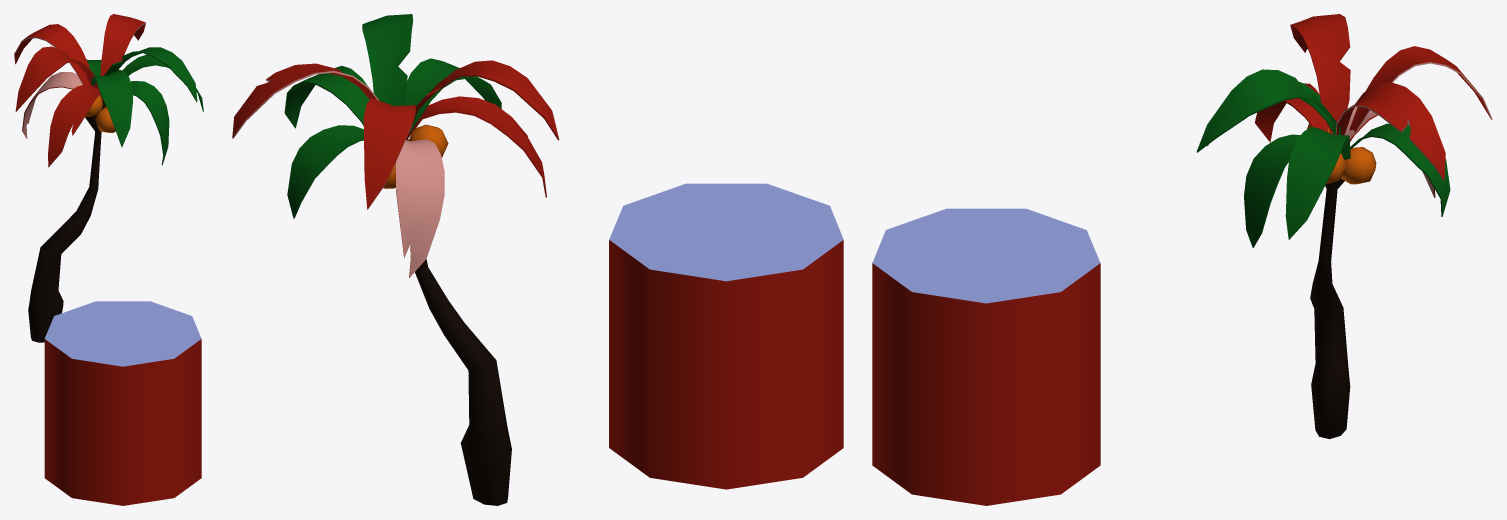
Rendered from palmeramaterialfixeed.fbx.
3 renders of one model, left to right at view 1: azimuth 30°, elevation 25°; view 2: azimuth 150°, elevation 25°; view 3: azimuth 270°, elevation 25°, orthographic. The views are drawn at different scales.
Visible parts, largest first — view 1: Cylinder001, tronco_low, hoja7_low, hoja9_low, hoja2_low, hoja10_low, hoja3_low, hoja8_low, hoja5_low, hoja4_low, hoja6_low, coco3_low; view 2: Cylinder001, tronco_low, hoja4_low, hoja3_low, hoja5_low, hoja1_low, hoja7_low, hoja2_low, hoja6_low, hoja10_low, hoja9_low; view 3: Cylinder001, tronco_low, hoja6_low, hoja2_low, hoja10_low, hoja5_low, hoja8_low, hoja3_low, hoja1_low, hoja7_low, coco2_low.
Part boxes in pixels (x1,y1,x2,y2): Cylinder001: (44, 301, 201, 505); tronco_low: (28, 100, 105, 342); hoja7_low: (48, 84, 102, 167); hoja9_low: (91, 69, 133, 147); hoja2_low: (15, 46, 98, 111); hoja10_low: (100, 14, 145, 75); hoja3_low: (14, 24, 89, 84); hoja8_low: (131, 81, 169, 165); hoja5_low: (104, 47, 197, 102); hoja4_low: (22, 72, 82, 138); hoja6_low: (122, 54, 203, 111); coco3_low: (95, 107, 115, 132); Cylinder001: (609, 183, 843, 489); tronco_low: (408, 140, 511, 505); hoja4_low: (395, 139, 444, 277); hoja3_low: (363, 98, 415, 209); hoja5_low: (362, 14, 413, 105); hoja1_low: (287, 125, 363, 218); hoja7_low: (408, 96, 546, 197); hoja2_low: (409, 60, 559, 140); hoja6_low: (284, 65, 369, 128); hoja10_low: (232, 63, 378, 138); hoja9_low: (404, 58, 501, 132); Cylinder001: (872, 208, 1100, 505); tronco_low: (1310, 179, 1350, 438); hoja6_low: (1285, 127, 1350, 239); hoja2_low: (1290, 14, 1350, 134); hoja10_low: (1335, 82, 1445, 180); hoja5_low: (1196, 69, 1341, 152); hoja8_low: (1244, 134, 1300, 247); hoja3_low: (1349, 46, 1492, 142); hoja1_low: (1350, 123, 1450, 216); hoja7_low: (1255, 83, 1327, 142); coco2_low: (1341, 147, 1376, 184).
Bounding box in the file's own units: 21.41 × 26.46 × 31.62.
